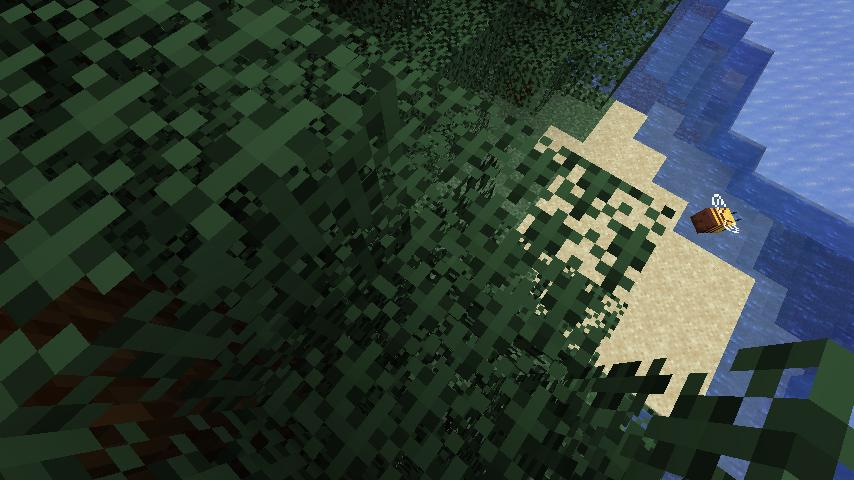bee: (687, 193, 745, 237)
